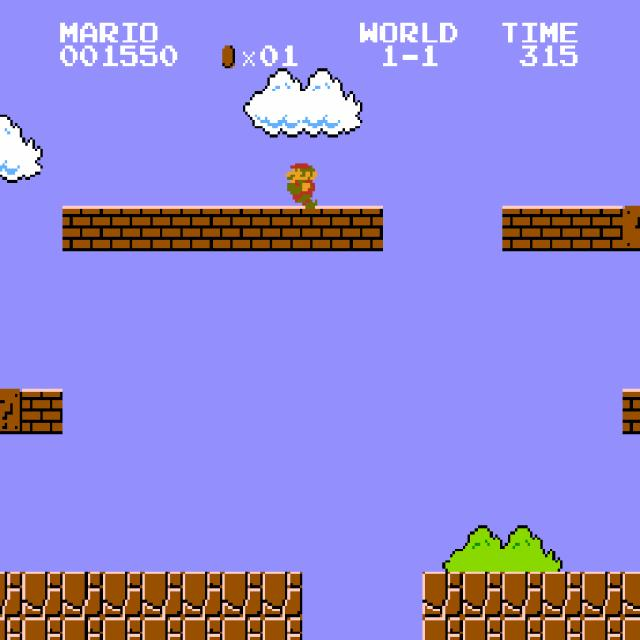brick_block: (22, 389, 63, 434), (62, 206, 103, 251), (102, 206, 143, 251), (142, 206, 183, 251), (182, 206, 223, 251), (222, 206, 263, 251), (262, 206, 303, 251), (302, 206, 343, 251), (342, 206, 383, 251), (502, 206, 543, 251), (542, 206, 583, 251), (582, 206, 623, 251), (622, 388, 640, 434)
little_mario: (277, 160, 320, 208)
mystery_block: (0, 389, 22, 434), (622, 205, 640, 251)
undestructible_block: (22, 572, 63, 617), (62, 572, 103, 617), (102, 572, 143, 617), (142, 572, 183, 617), (182, 572, 223, 617), (222, 572, 263, 617), (262, 572, 303, 617), (422, 572, 463, 617), (462, 572, 503, 617), (502, 572, 543, 617), (542, 572, 583, 617), (582, 572, 623, 617), (0, 572, 22, 617), (22, 617, 63, 640), (62, 617, 103, 640), (102, 617, 143, 640), (142, 617, 183, 640), (182, 617, 223, 640), (222, 617, 263, 640), (262, 617, 303, 640), (422, 617, 463, 640), (462, 617, 503, 640), (502, 617, 543, 640), (542, 617, 583, 640), (582, 617, 623, 640), (622, 571, 640, 617), (0, 617, 22, 640), (622, 617, 640, 639)
